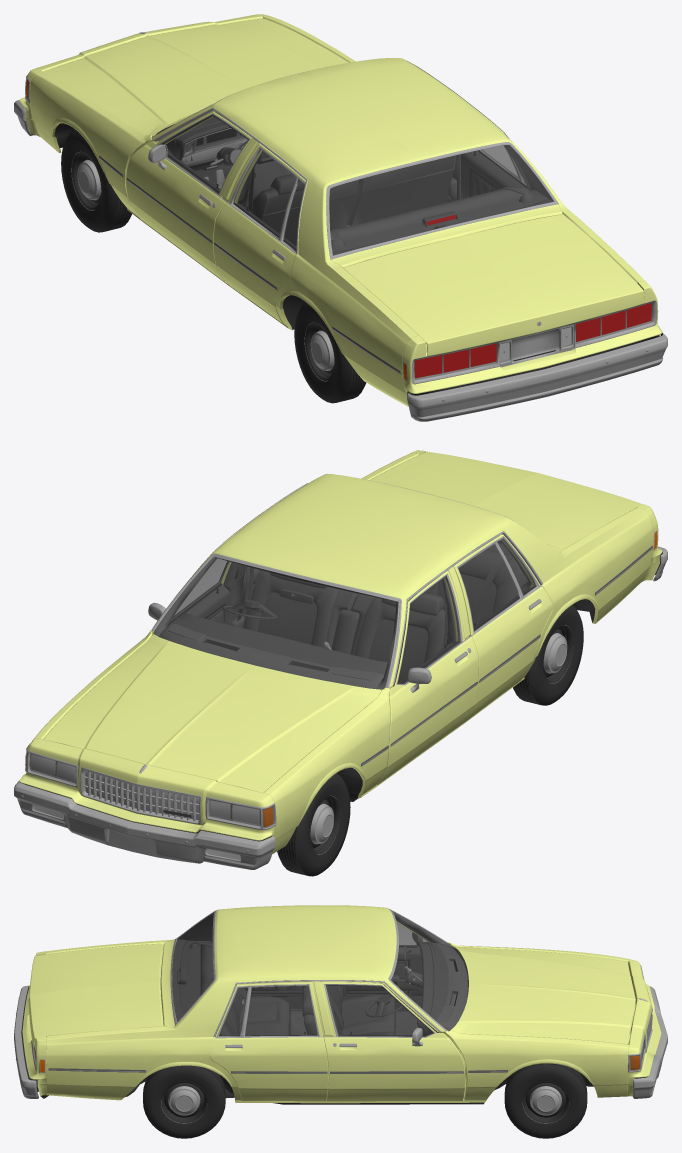
The picture shows the model from 3 angles, top to bottom: view 1: azimuth 30°, elevation 25°; view 2: azimuth 150°, elevation 25°; view 3: azimuth 270°, elevation 25°; orthographic projection. The views are drawn at different scales.
Visible parts, largest first — view 1: kuzov, bagg, kapot, doorPL, doorZL, bumpZ, wheel003, wheel004, doorZP; view 2: kuzov, kapot, lob, doorPL, bagg, doorZL, bumpP, wheel003, wheel004, doorPP; view 3: kuzov, kapot, doorPP, doorZP, bagg, wheel002, wheel001, lob, doorPL, bumpZ, bumpP, doorZL.
Part boxes in pixels (x1,y1,x2,y2): kuzov: (19, 14, 662, 406); bagg: (343, 214, 644, 356); kapot: (44, 18, 348, 136); doorPL: (126, 112, 252, 283); doorZL: (213, 143, 305, 323); bumpZ: (407, 332, 667, 421); wheel003: (61, 129, 131, 232); wheel004: (294, 302, 366, 403); doorZP: (461, 146, 527, 198); kuzov: (19, 450, 662, 853); kapot: (43, 634, 381, 792); lob: (168, 558, 396, 675); doorPL: (377, 571, 478, 784); bagg: (370, 451, 642, 549); doorZL: (453, 534, 552, 720); bumpP: (14, 780, 275, 869); wheel003: (277, 773, 350, 876); wheel004: (513, 604, 583, 705); doorPP: (148, 558, 231, 625); kuzov: (22, 905, 661, 1104); kapot: (450, 944, 635, 1044); doorPP: (321, 982, 465, 1101); doorZP: (210, 982, 328, 1101); bagg: (28, 943, 162, 1047); wheel002: (504, 1063, 587, 1138); wheel001: (143, 1065, 225, 1138); lob: (391, 916, 448, 1019); doorPL: (343, 922, 428, 1009); bumpZ: (14, 985, 38, 1098); bumpP: (633, 986, 667, 1098); doorZL: (243, 986, 303, 1009).
Bounding box in the file's own units: 226 × 157 × 585.
